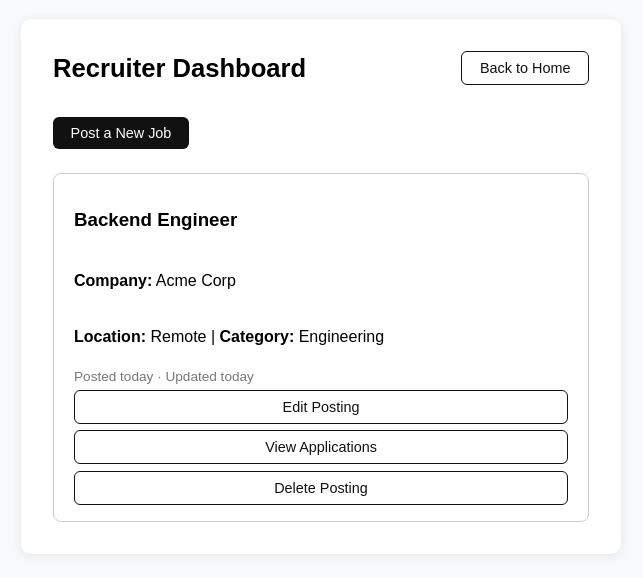
Test: RecruiterDashboard › deletes a job posting after confirmation
Expected: the heading "Backend Engineer" is shown, [74,209,237,230]
Click the button "Delete Posting": point(321, 488) [74,471,568,505]
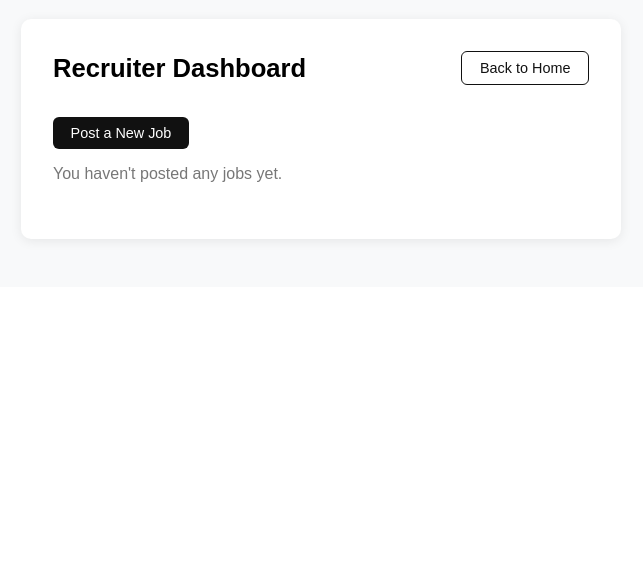
Expected: the heading "Backend Engineer" is gone
